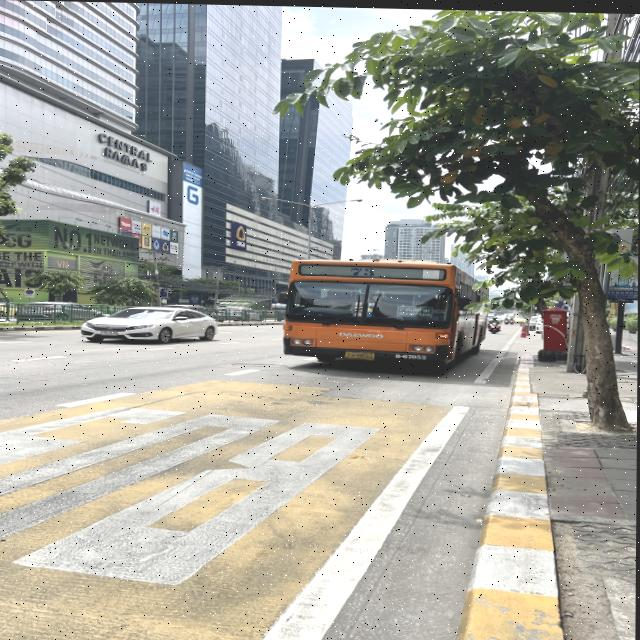BMTA-bus: (282, 255, 487, 374)
Bus-Line-Number: (342, 263, 384, 278)
Destination-Sign-Normal: (398, 303, 434, 316)
